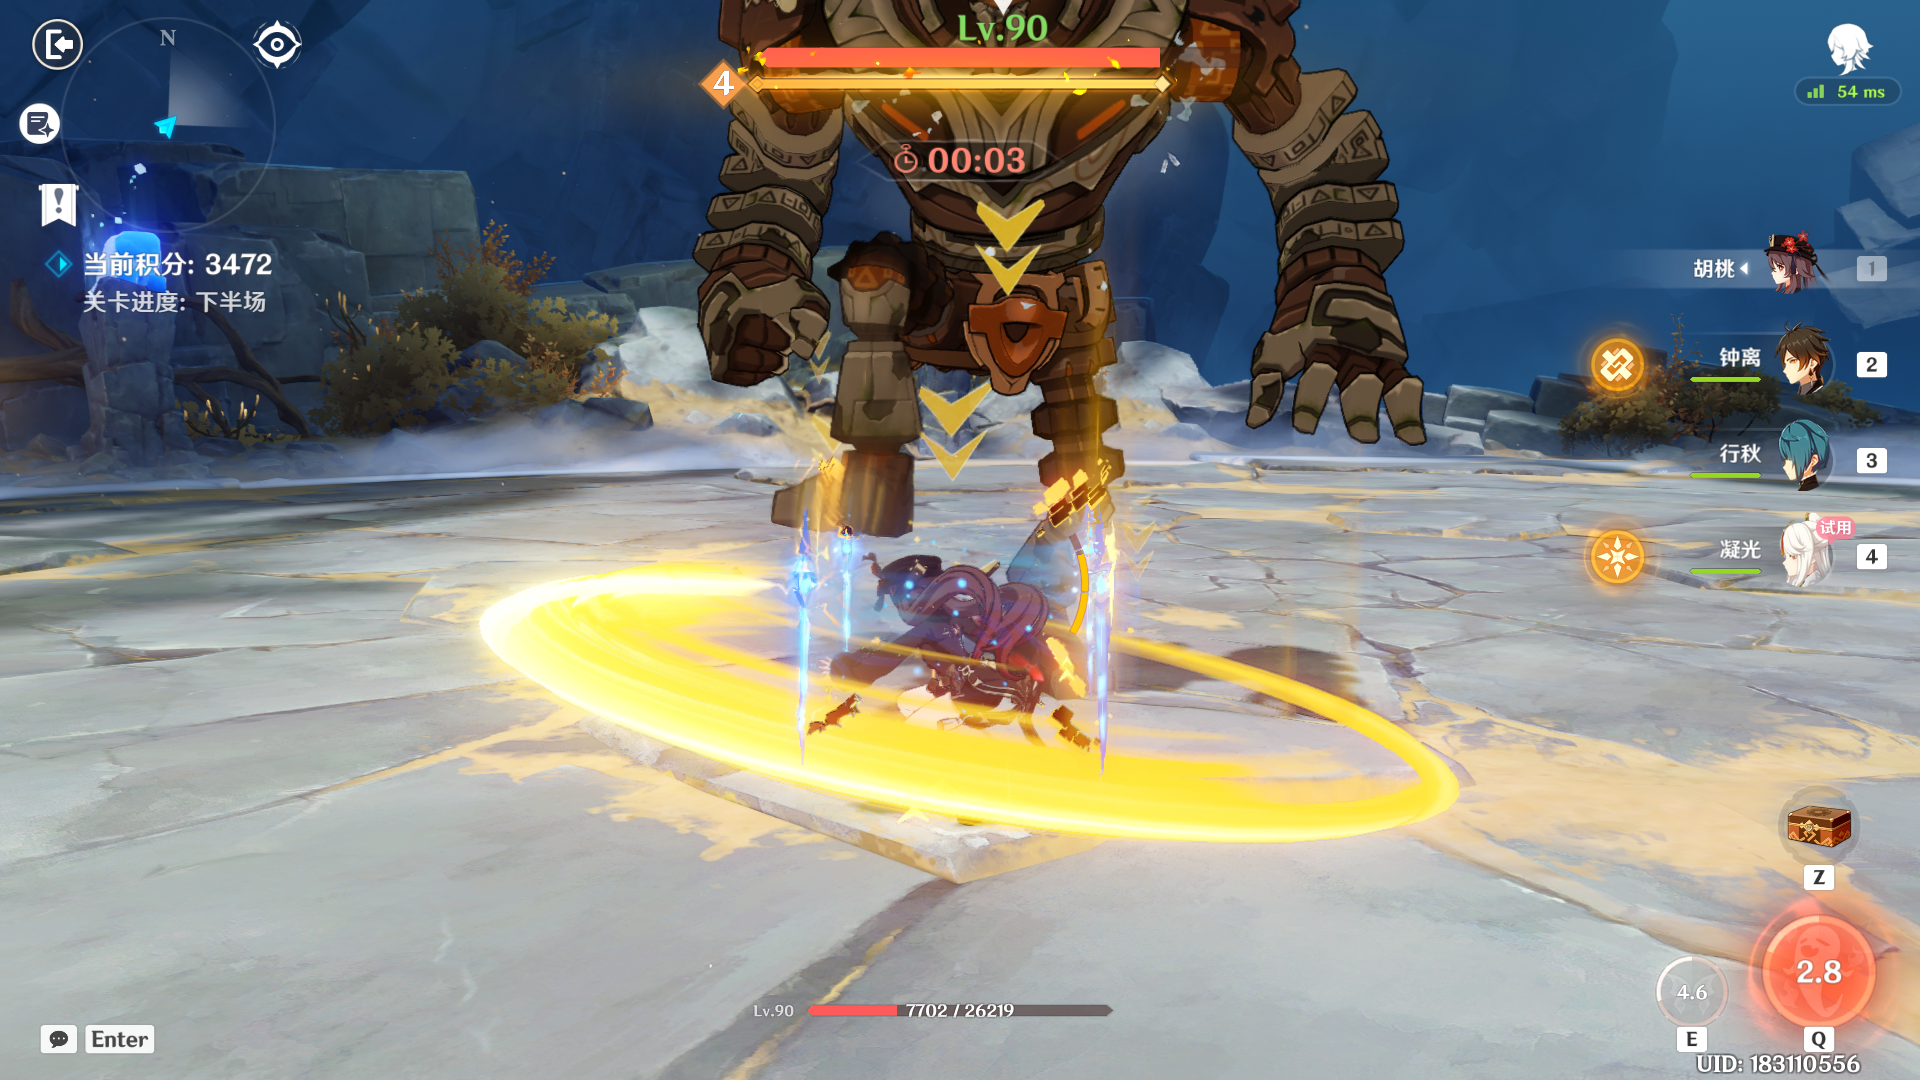character: (825, 520, 1091, 808)
